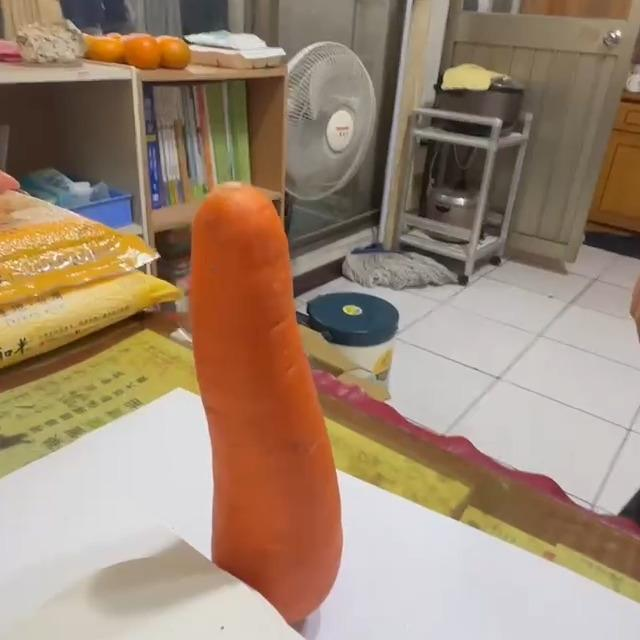carrot: (188, 184, 347, 635)
